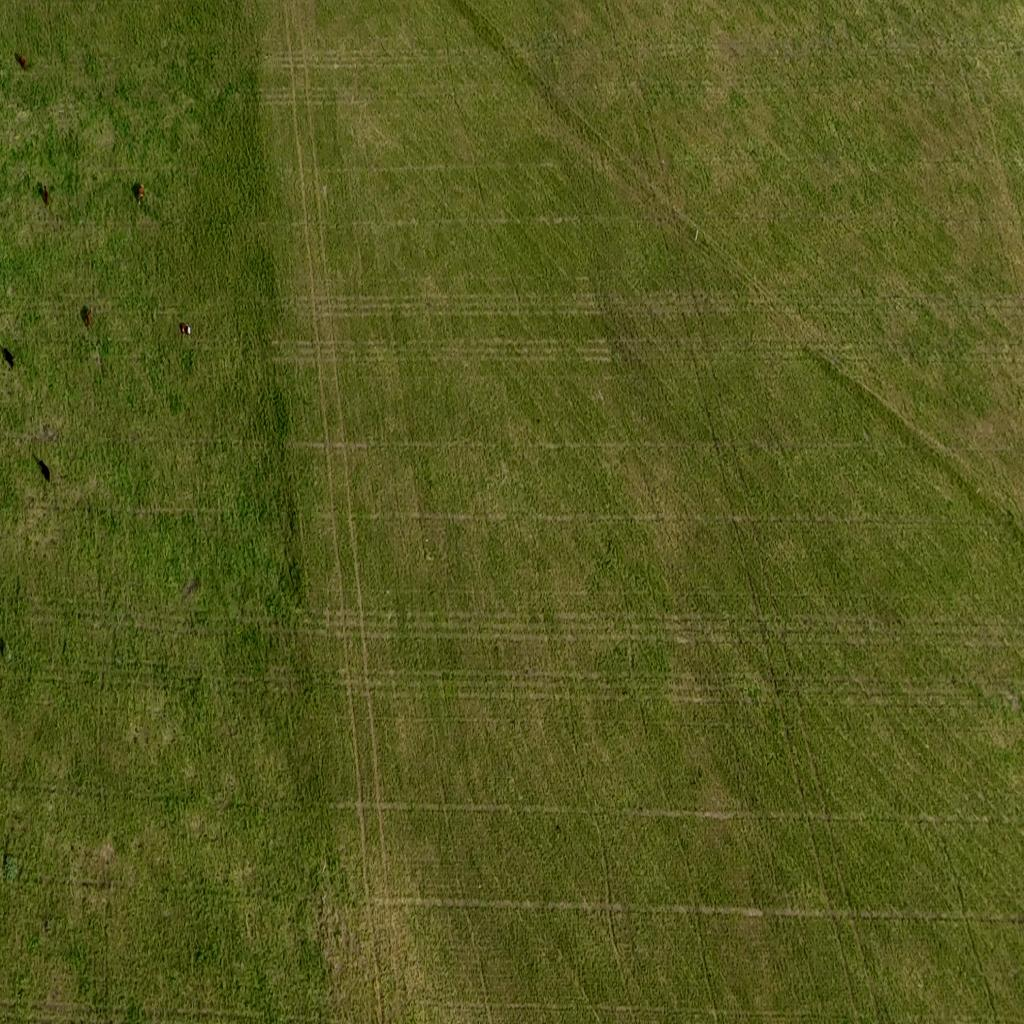cow: (36, 452, 52, 484), (2, 341, 16, 367), (17, 52, 32, 75), (41, 185, 51, 209), (84, 306, 94, 330), (136, 182, 146, 204), (180, 321, 192, 337)
